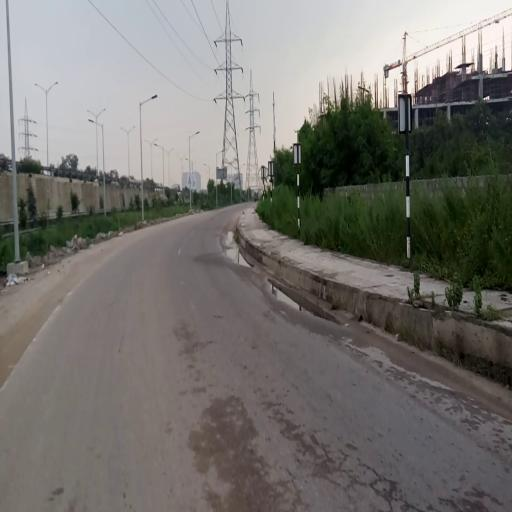street_light_0: (136, 91, 160, 113), (31, 75, 47, 104), (86, 115, 106, 131), (45, 80, 62, 98), (116, 120, 130, 140), (140, 130, 154, 150), (149, 136, 163, 155), (82, 104, 96, 122), (212, 146, 228, 160), (187, 125, 202, 139), (150, 129, 160, 147), (95, 105, 107, 119), (182, 152, 192, 166), (128, 121, 136, 135)
